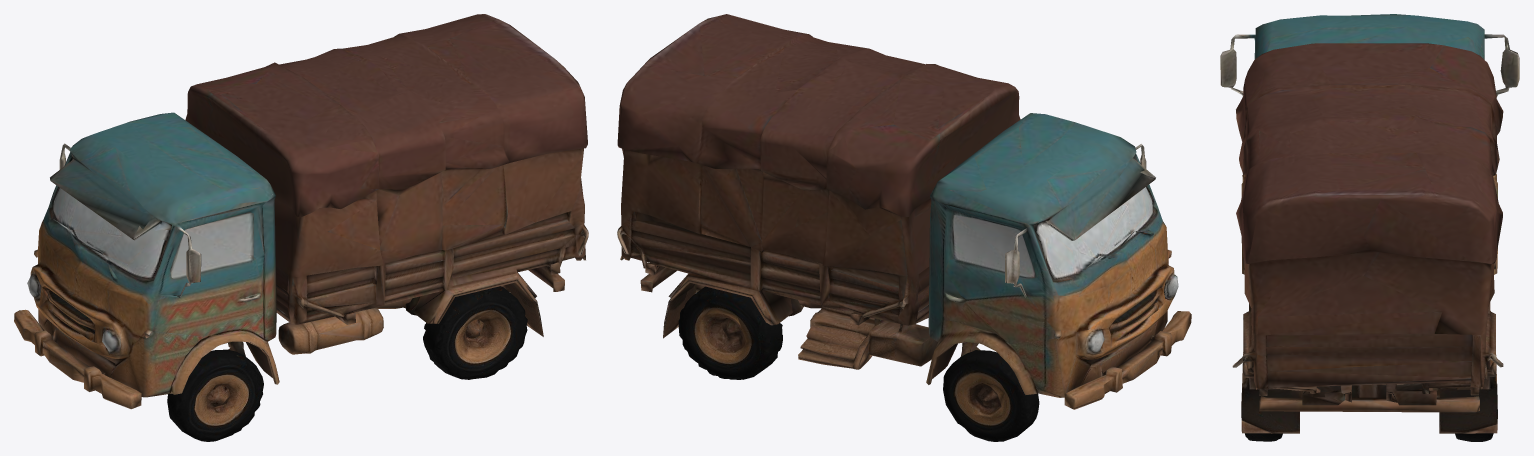
Rendered from truck.glb.
3 views of the same model, side by side, from view 1: azimuth 30°, elevation 25°; view 2: azimuth 150°, elevation 25°; view 3: azimuth 270°, elevation 25° (orthographic). The views are drawn at different scales.
Size of the model in its own units: 1.89 by 1.05 by 0.9535.
Materials: 1 (1 with a texture image).
